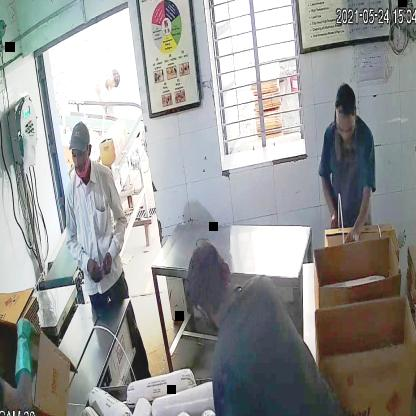no_goggles: (70, 146, 89, 165)
